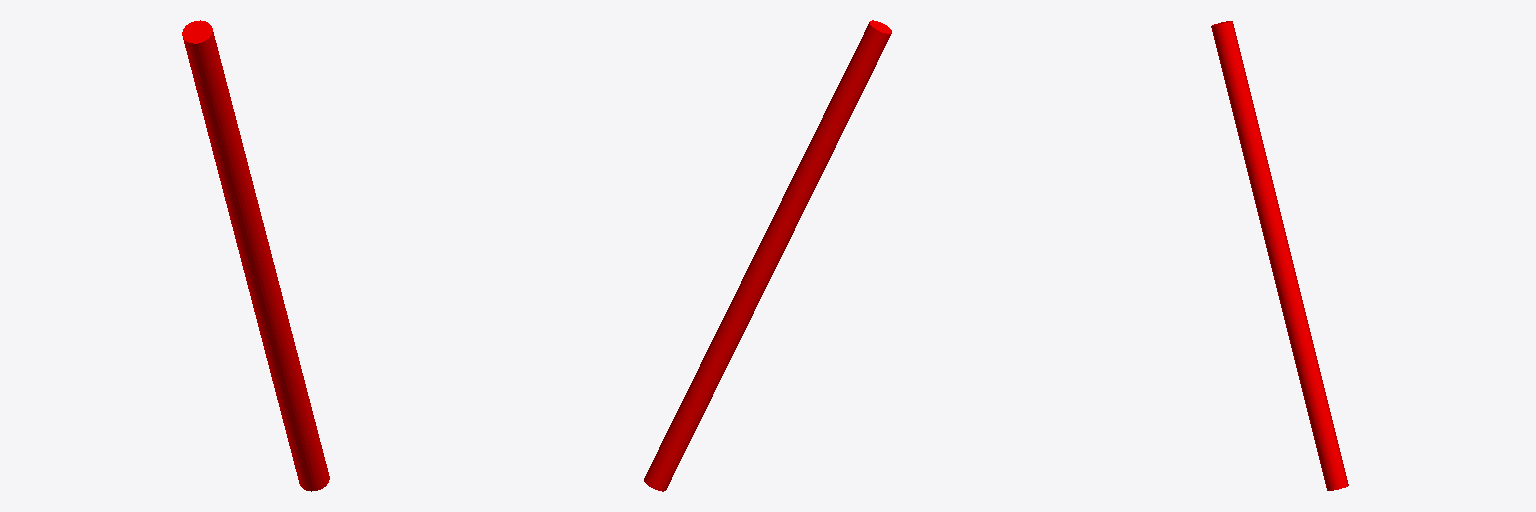
robot.urdf — tree_21.urdf:
<?xml version='1.0' encoding='utf-8'?>
<robot name="tree_21.urdf">
  <link name="branch_0">
    <inertial>
      <origin xyz="0.0 0.0 0.0" rpy="0.0 -0.0 0.0" />
      <mass value="1.0" />
      <inertia ixx="1.0" ixy="0.0" ixz="0.0" iyy="1.0" iyz="0.0" izz="1.0" />
    </inertial>
    <visual name="branch_0_visual">
      <geometry>
        <cylinder radius="0.04788944814374537" length="2.0843962251670916" />
      </geometry>
      <material name="semantic_material" />
      <origin xyz="-0.35409797293326073 -0.252005507742728 0.9472511575630778" rpy="-4.5226889441279295e-17 0.4301639232655733 -2.523068708845804" />
    </visual>
    <collision name="branch_0_collision">
      <geometry>
        <cylinder radius="0.04788944814374537" length="2.0843962251670916" />
      </geometry>
      <origin xyz="-0.35409797293326073 -0.252005507742728 0.9472511575630778" rpy="-4.5226889441279295e-17 0.4301639232655733 -2.523068708845804" />
    </collision>
  </link>
  <material name="semantic_material">
    <color rgba="1. 0. 0. 1." />
  </material>
</robot>

--- Facts derived from the render (not from the file) ---
The picture shows the robot from 3 angles, left to right: view 1: azimuth 30°, elevation 25°; view 2: azimuth 150°, elevation 25°; view 3: azimuth 270°, elevation 25°; orthographic projection.
Model tree_21.urdf with 1 links and 0 joints (none), rooted at branch_0, posed all joints at 0.
Links seen in each view (by area): view 1: branch_0; view 2: branch_0; view 3: branch_0.
Boxes of the visible links, bbox=[...] form: branch_0: bbox=[182, 20, 329, 491]; branch_0: bbox=[644, 20, 891, 491]; branch_0: bbox=[1211, 21, 1348, 490].
Bounding box of the posed robot: 0.798 × 0.5969 × 1.93 m (x, y, z).
Geometry: primitives only (box / cylinder / sphere), no mesh files.